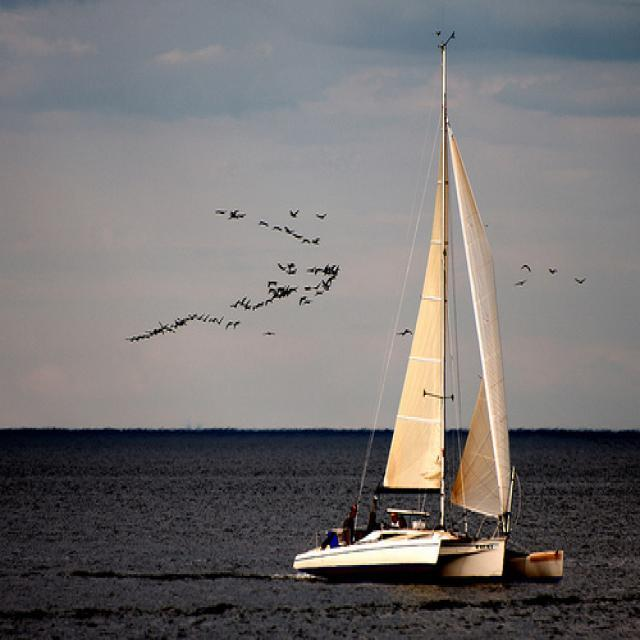Ship: (303, 44, 568, 598)
